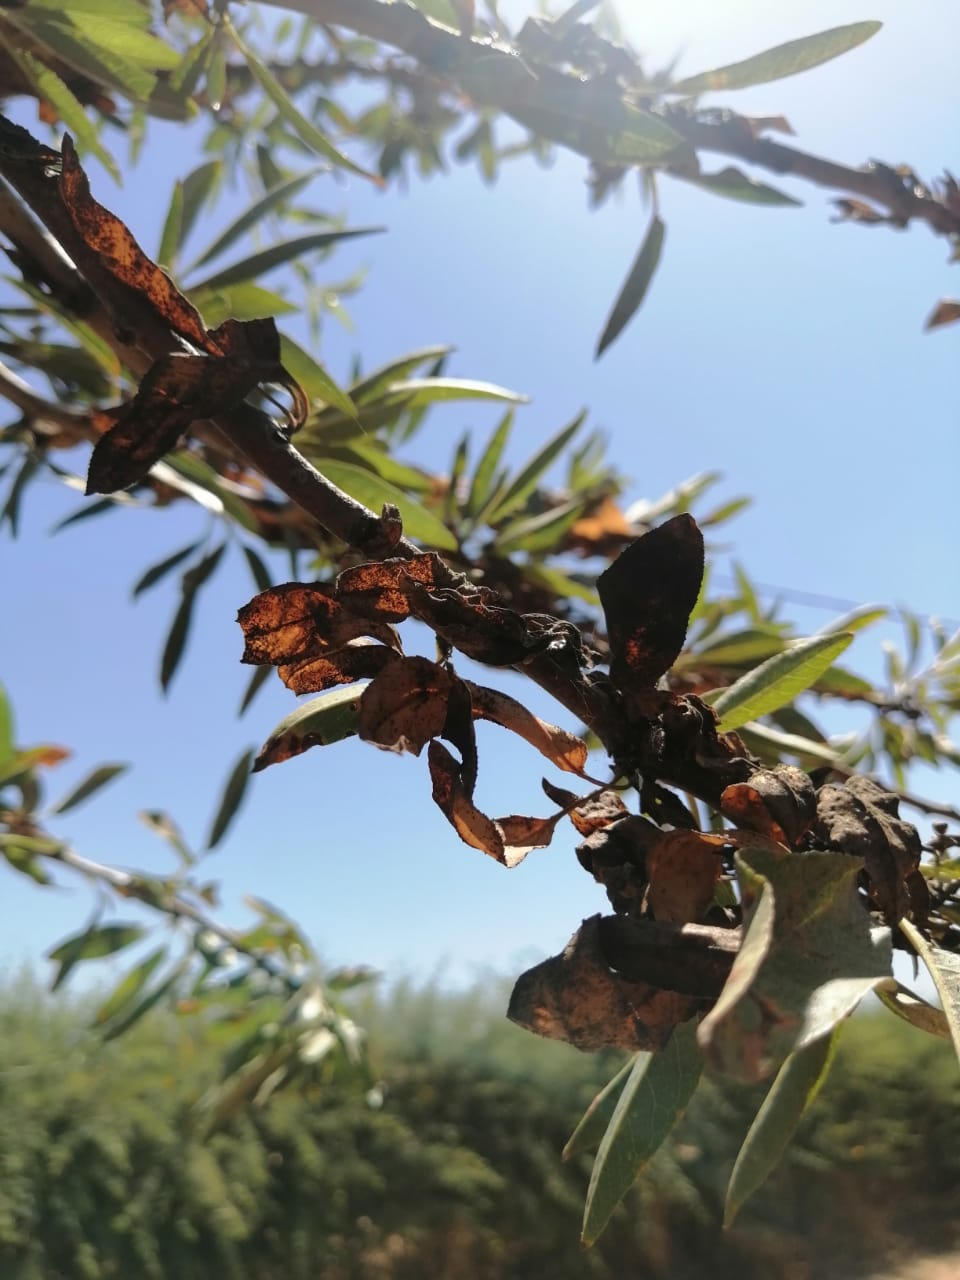scolytes: (45, 137, 960, 961)
